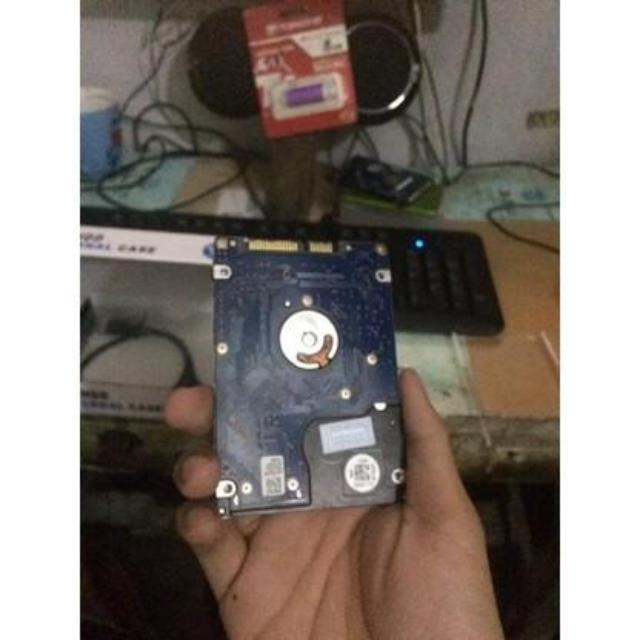DISK: (210, 230, 404, 512)
